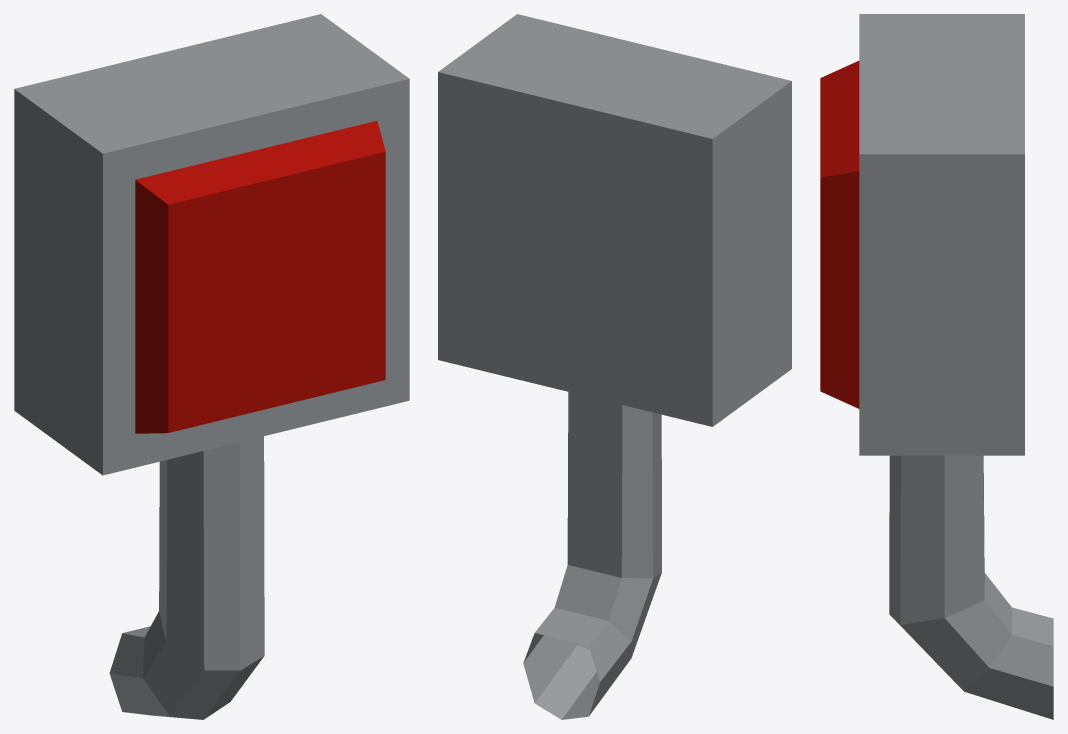
File: Hackable_Button_01.fbx
3 renders of one model, left to right at view 1: azimuth 30°, elevation 25°; view 2: azimuth 150°, elevation 25°; view 3: azimuth 270°, elevation 25°, orthographic. The views are drawn at different scales.
Parts seen in each view (by area): view 1: Hackable_Button_01; view 2: Hackable_Button_01; view 3: Hackable_Button_01.
Part boxes in pixels (box(x1,y1,x2,y2)): Hackable_Button_01: box(14, 14, 409, 719); Hackable_Button_01: box(438, 14, 791, 719); Hackable_Button_01: box(820, 14, 1053, 719).
Bounding box in the file's own units: 0.2 × 0.4206 × 0.1406.
